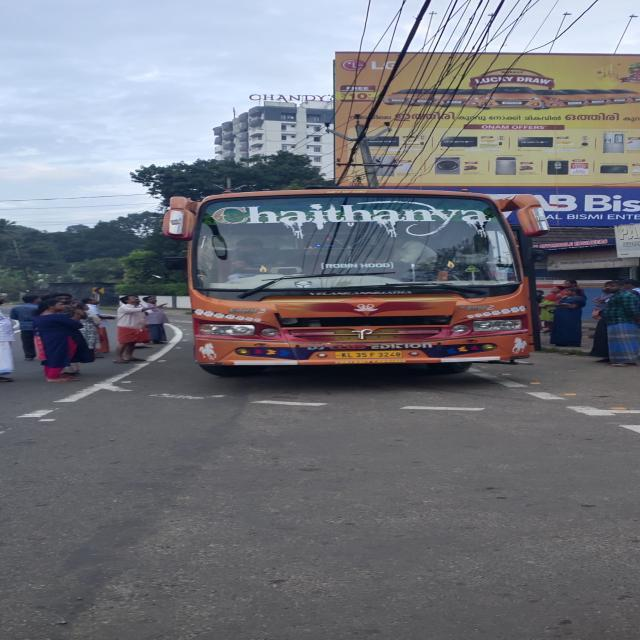Bus: (126, 166, 574, 398)
